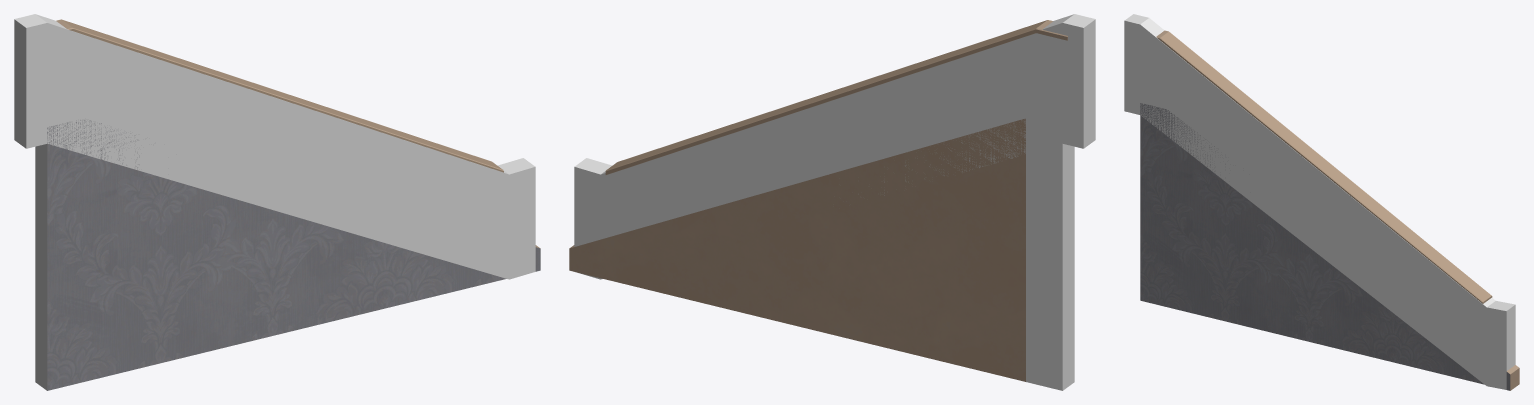
Rendered from RightStairRail.fbx.
3 renders of one model, left to right at view 1: azimuth 30°, elevation 25°; view 2: azimuth 150°, elevation 25°; view 3: azimuth 330°, elevation 25°, orthographic. The views are drawn at different scales.
Visible parts, largest first — view 1: bannisterTop.001; view 2: bannisterTop.001; view 3: bannisterTop.001.
Boxes of the visible parts, bbox=[...] form: bannisterTop.001: bbox=[14, 14, 540, 390]; bannisterTop.001: bbox=[569, 14, 1095, 390]; bannisterTop.001: bbox=[1124, 14, 1519, 390].
Size of the model in its own units: 1633 by 1121 by 69.02.
